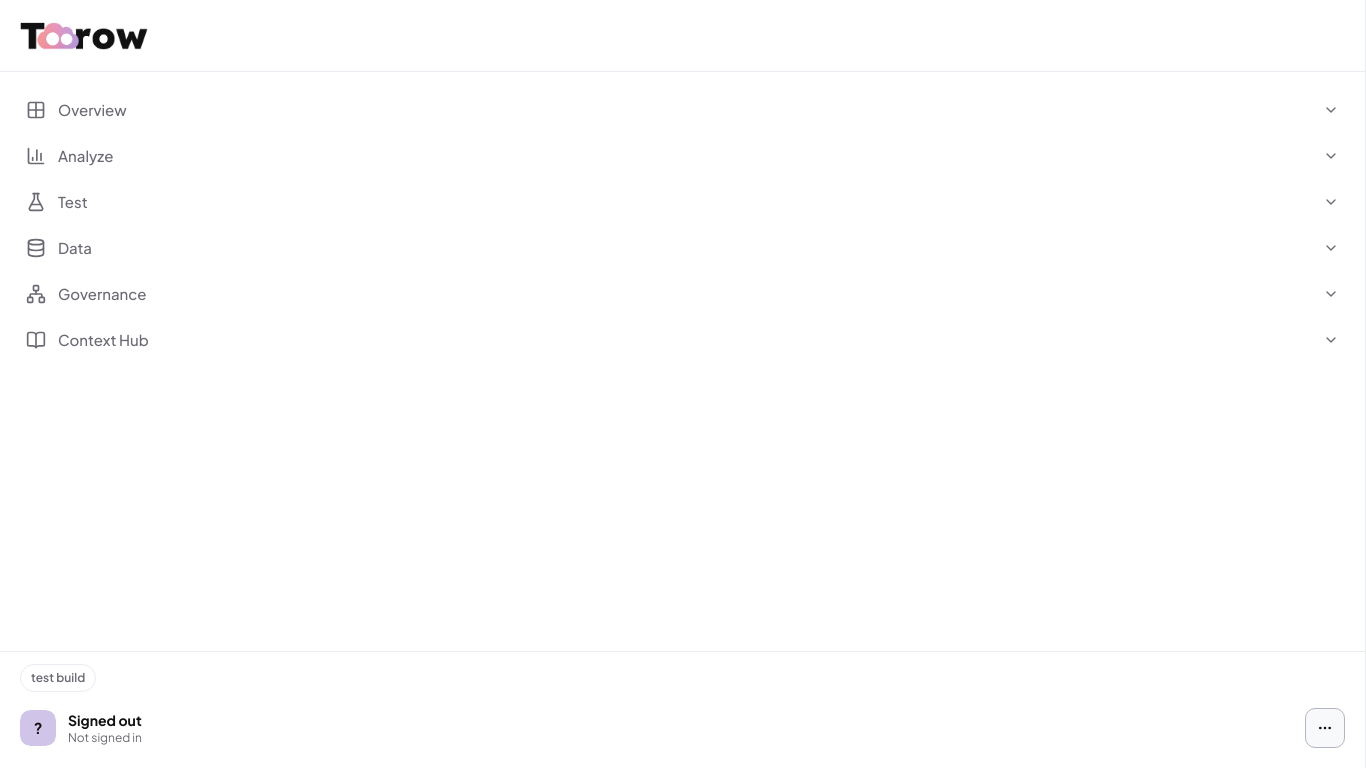
Test case: reaching the platform clocks › offers the entry to a platform admin
Click the button named "Account menu" at (1325, 728), box [1305,708,1345,748]
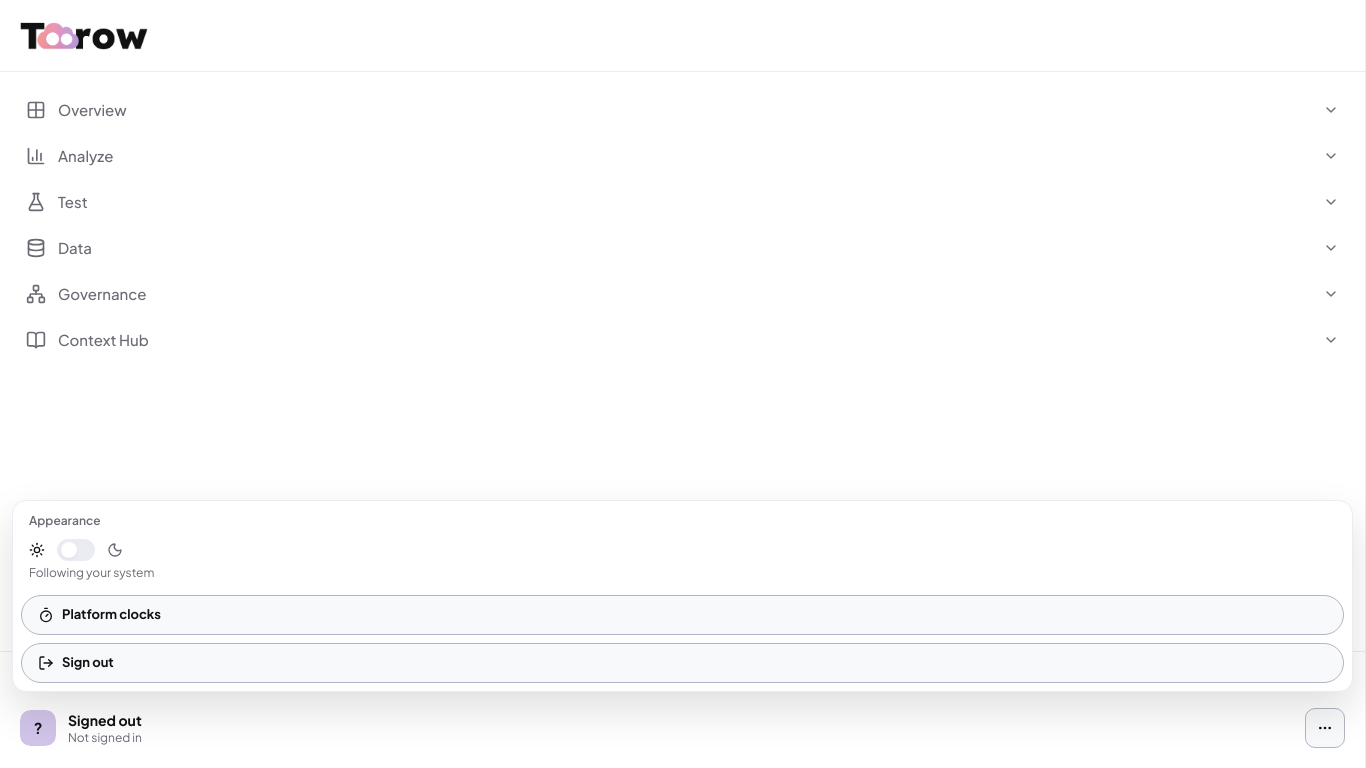
Result: the menu item "Platform clocks" is shown at [21,595,1344,635]
